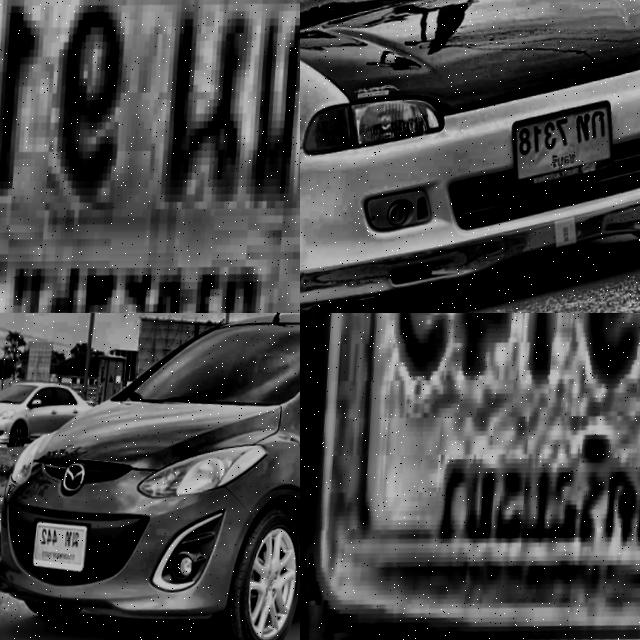license-plate: (300, 313, 640, 640), (0, 0, 300, 313), (501, 95, 617, 207), (24, 515, 90, 585)
